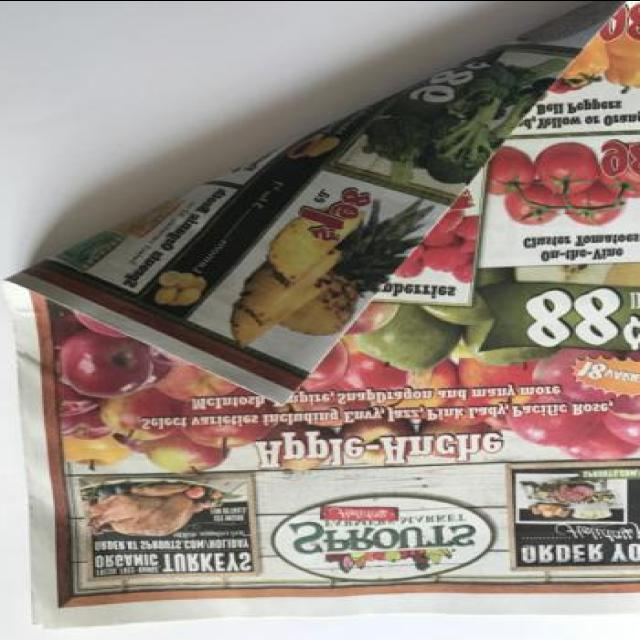kertas: (0, 0, 640, 633)
